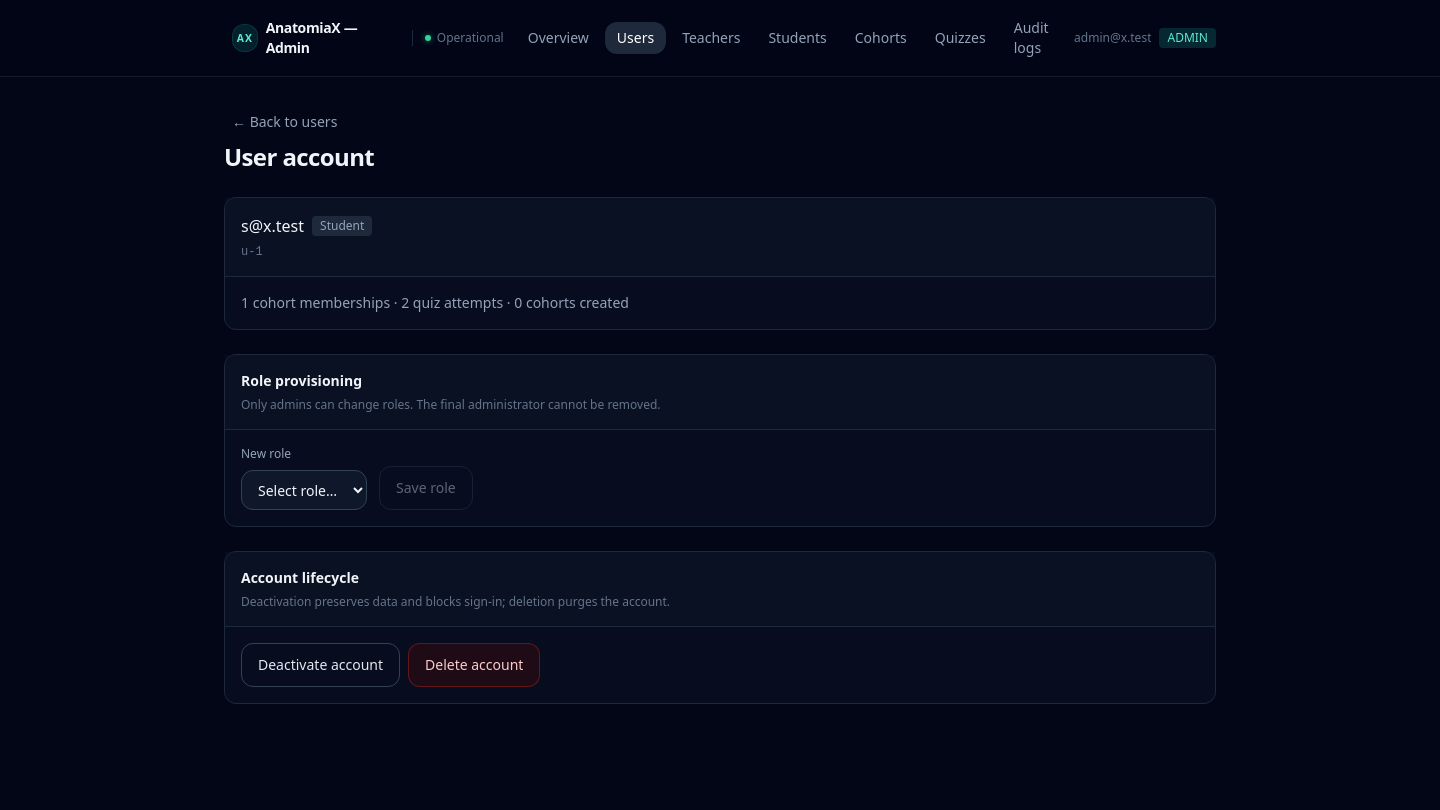
Test case: admin user detail › deactivates and surfaces backend refusal without crashing
Expected: the text "s@x.test" is shown, left=241, top=214, right=304, bottom=238
Click the button with test id "admin-user-deactivate".
click(320, 665)  # box left=241, top=643, right=400, bottom=687
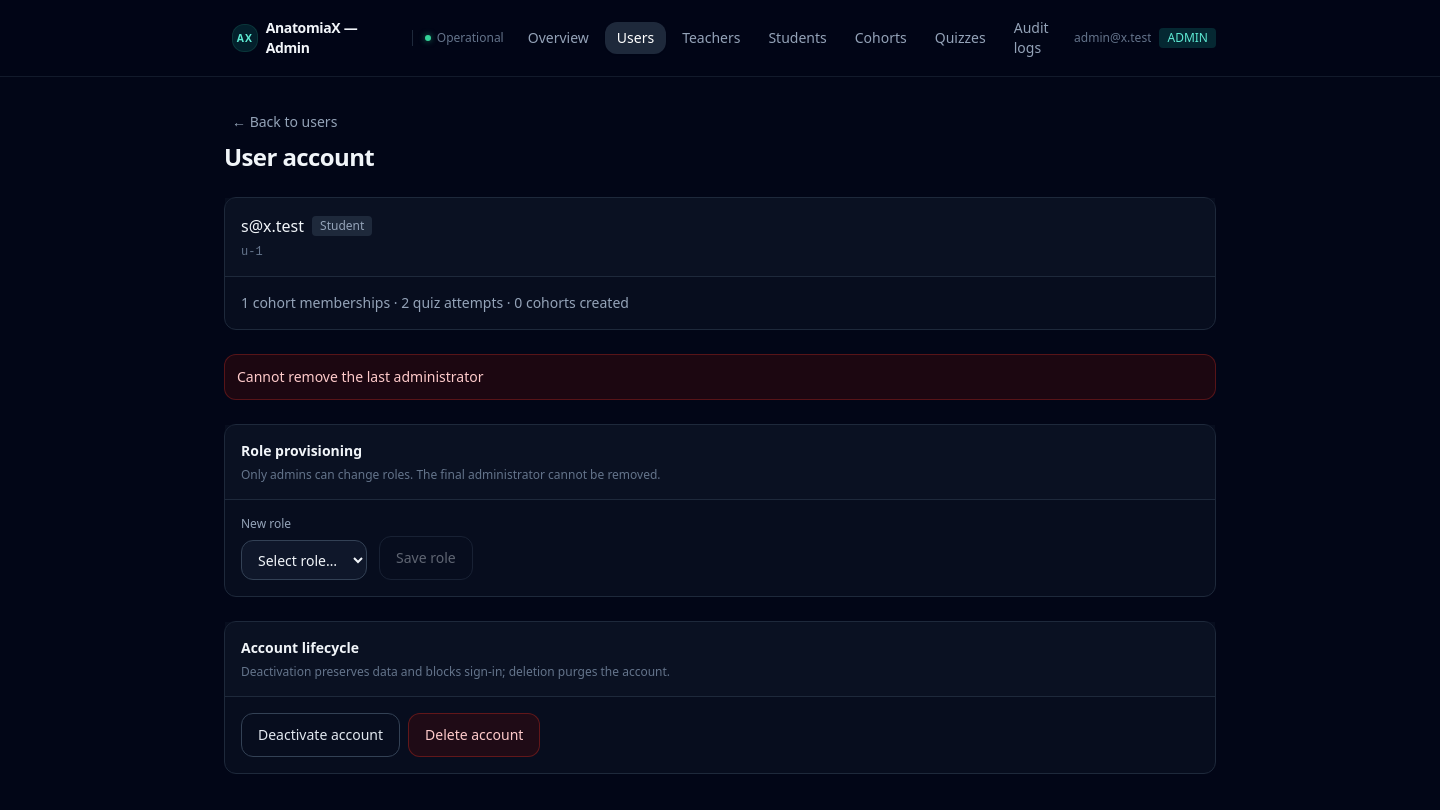
Now the message with test id "admin-user-action-error" shows "last administrator", box left=237, top=367, right=484, bottom=386
